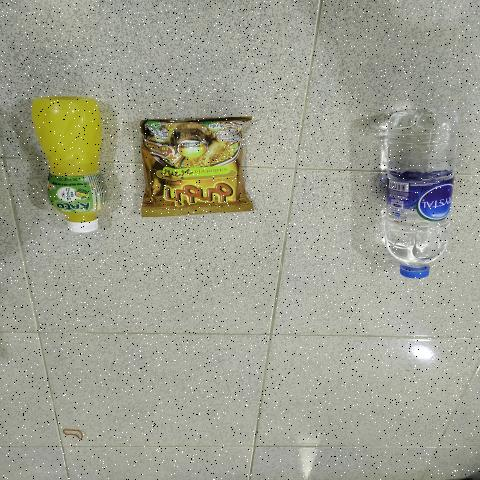crystal: (386, 116, 447, 279)
mama: (158, 120, 244, 213)
